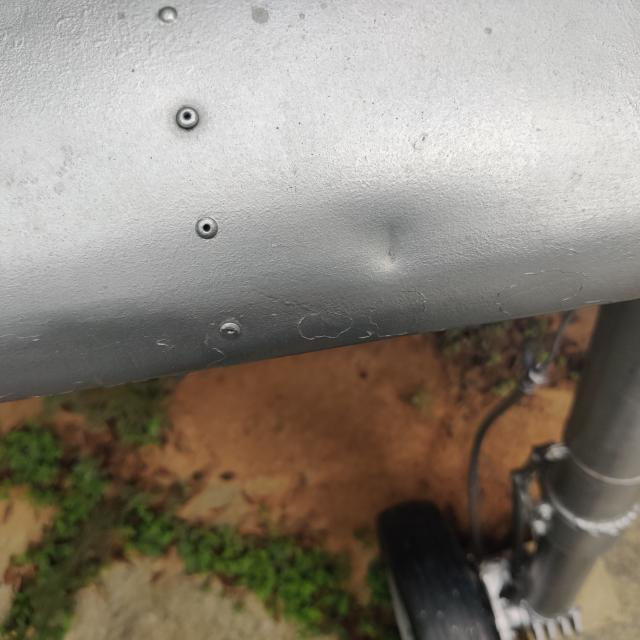dent: (335, 198, 446, 301)
